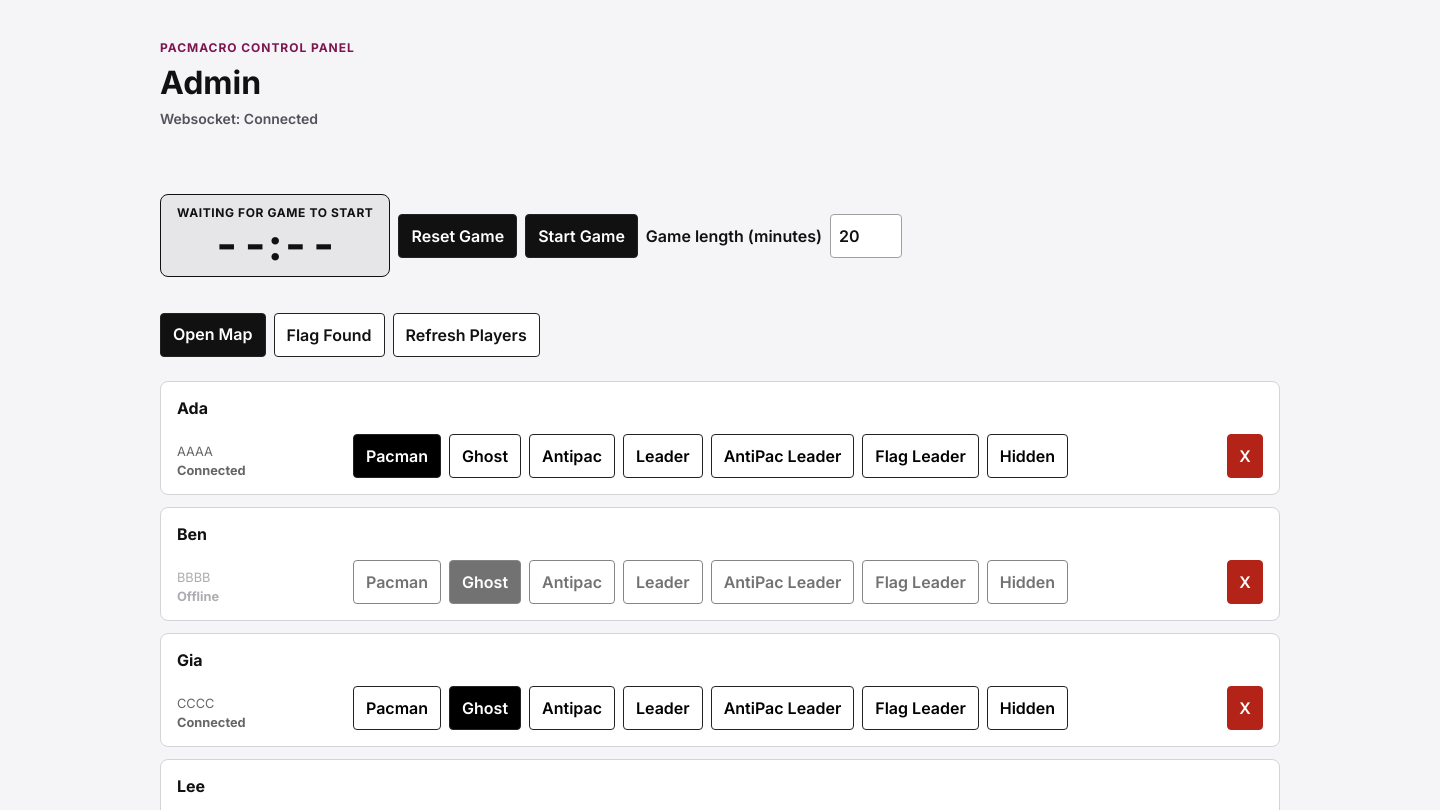
Test: AdminPageComponent › restores server-backed selection when an immediate update fails
Click the radio button with id "type-AAAA-3": (485, 456) 449,434 -> 521,478
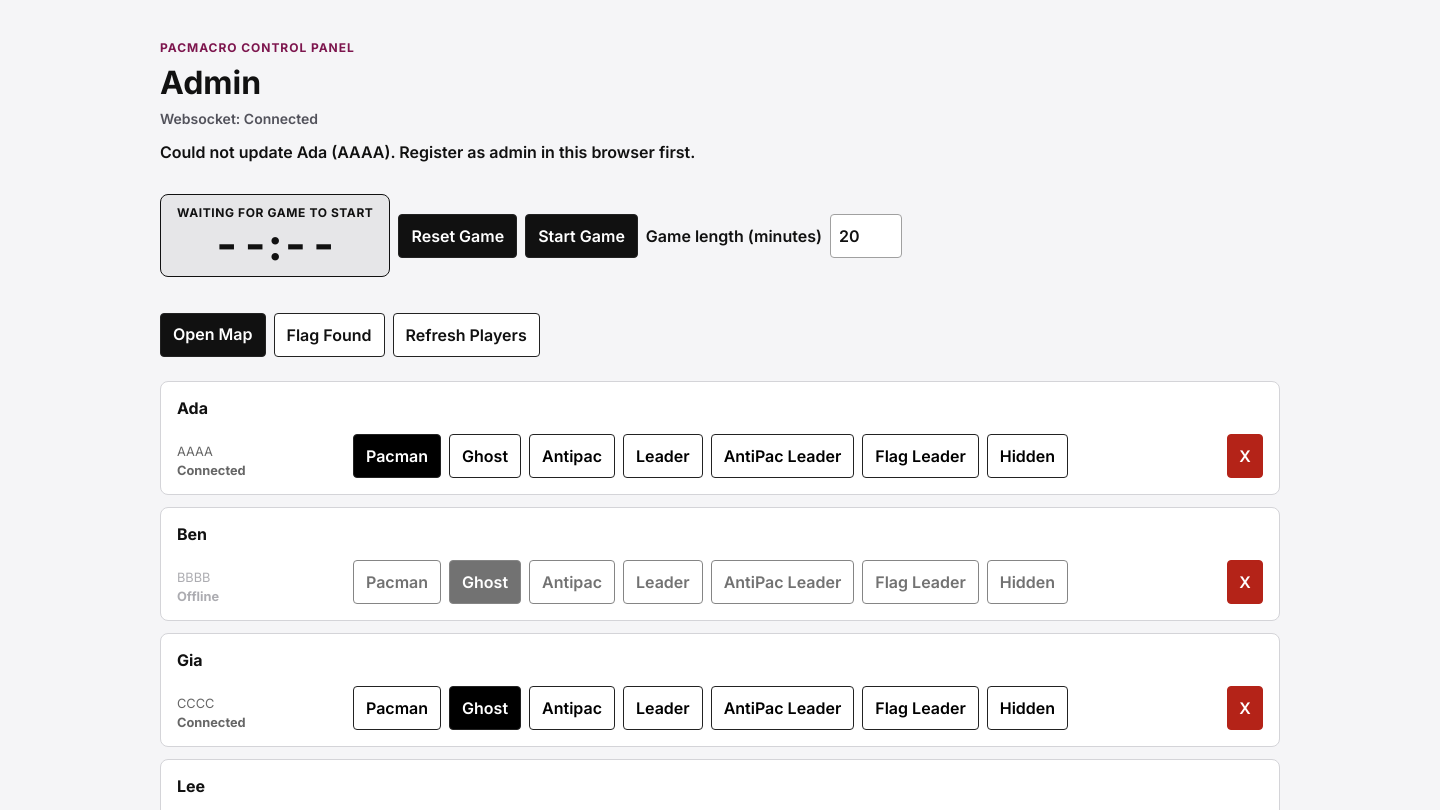
Expected: the message with class "admin-status" shows "Could not update Ada", 160,142 -> 695,162
